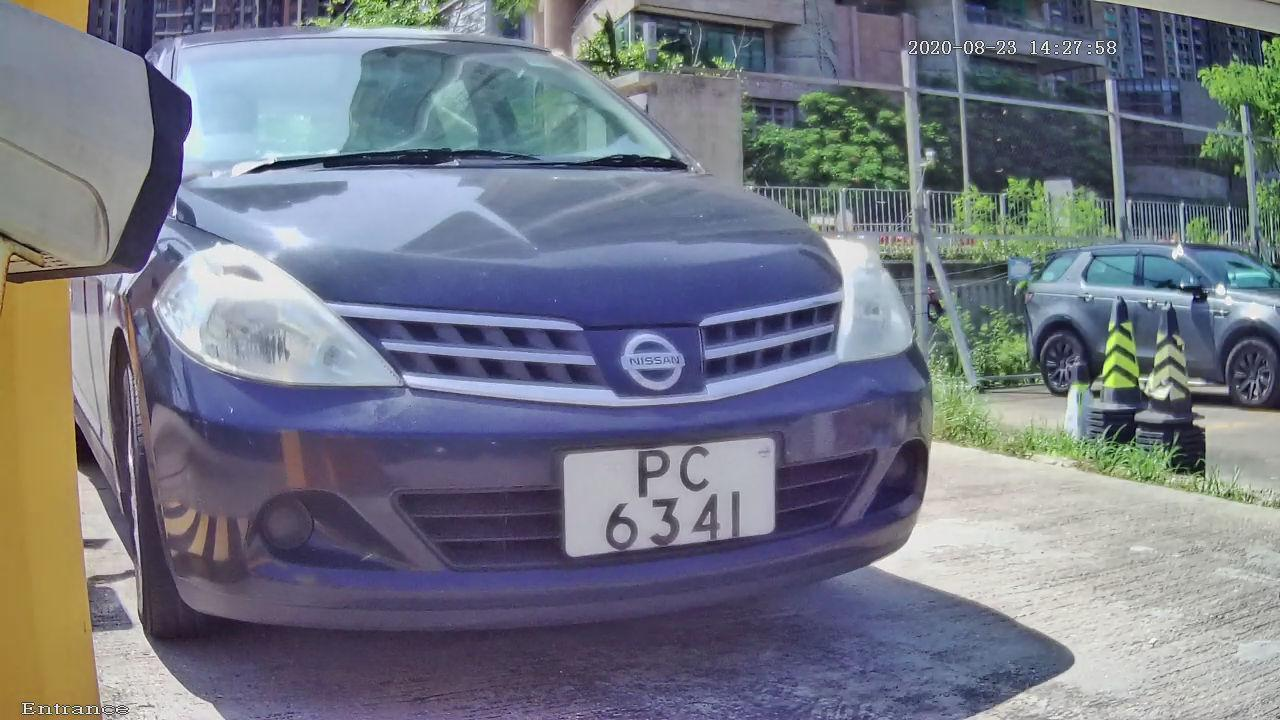Car: (18, 13, 1012, 708)
License Plate: (543, 422, 783, 569)
